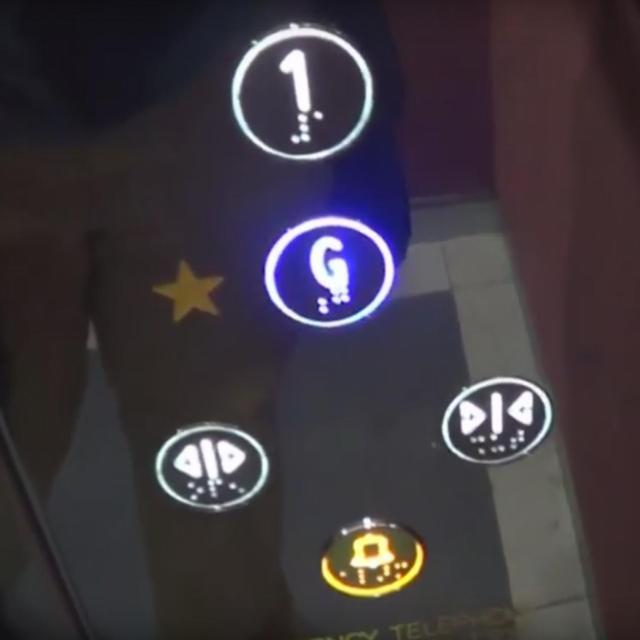1: (227, 16, 377, 164)
G: (258, 209, 399, 334)
alarm: (314, 514, 424, 598)
close: (435, 372, 556, 468)
open: (150, 416, 272, 514)
